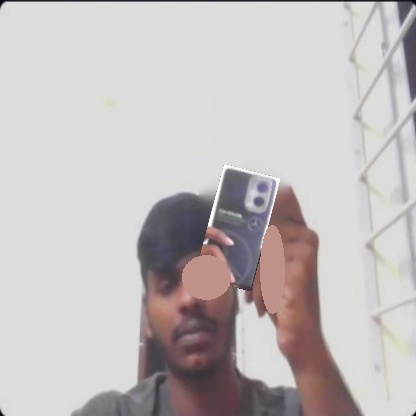cell_phone: (194, 163, 280, 291)
